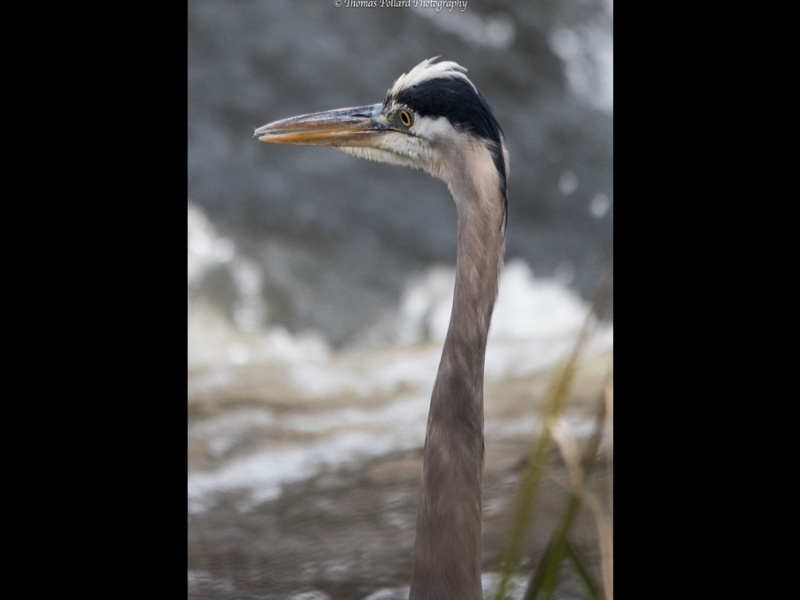heron: (251, 55, 505, 599)
